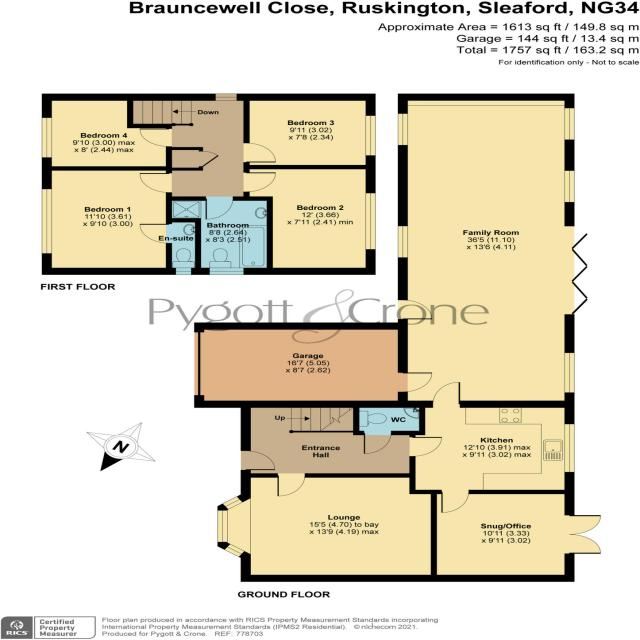DOOR: (395, 297, 435, 321), (430, 380, 462, 409), (361, 429, 395, 456), (239, 449, 278, 472), (439, 488, 472, 515), (276, 472, 308, 499), (396, 371, 435, 393), (407, 436, 444, 458), (204, 195, 235, 221), (138, 172, 174, 194), (242, 142, 277, 164), (138, 223, 173, 244), (138, 128, 174, 148), (243, 172, 277, 193)
FOLDING DOOR: (562, 218, 595, 316), (564, 512, 604, 556)
ROOM: (396, 92, 591, 409), (216, 473, 437, 583), (408, 381, 576, 513), (430, 488, 603, 583), (242, 164, 377, 275), (40, 166, 173, 275), (41, 93, 172, 171), (243, 93, 376, 169)
WINDOW: (41, 188, 54, 255), (364, 192, 377, 250), (562, 423, 576, 474), (562, 352, 576, 394), (364, 115, 377, 157), (40, 117, 53, 158), (215, 509, 230, 544), (562, 106, 576, 141), (563, 169, 577, 204), (221, 542, 247, 560), (219, 494, 246, 511), (396, 225, 409, 259), (396, 113, 409, 146), (208, 267, 246, 276), (214, 92, 238, 102), (174, 267, 193, 276)
